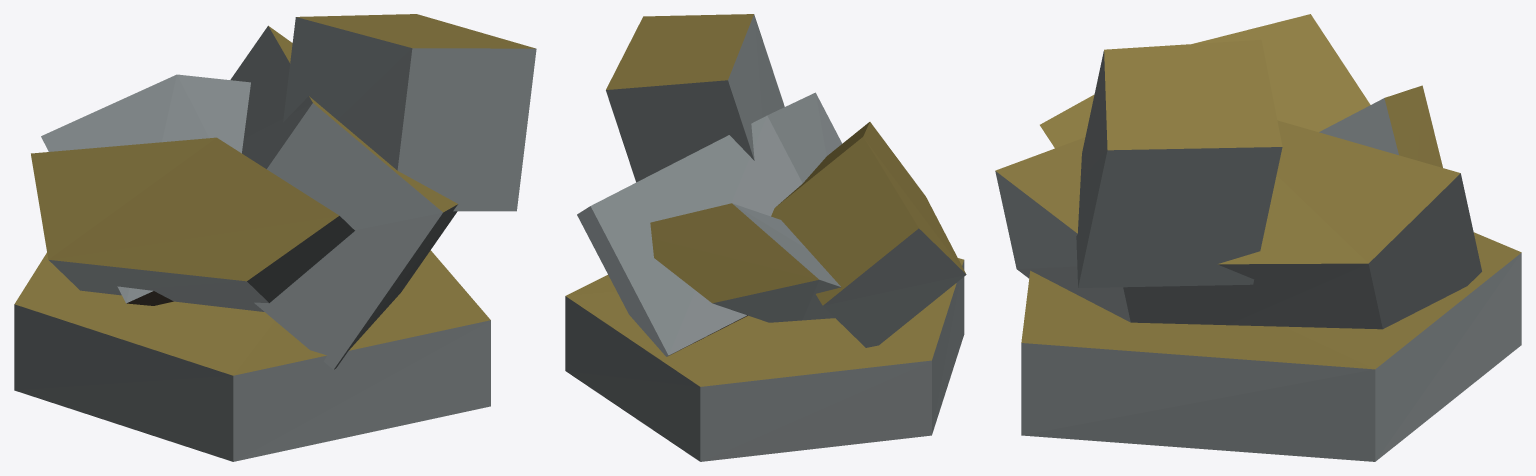
Rendered from rock.shard__stacked__summer.glb.
3 views of the same model, side by side, from view 1: azimuth 30°, elevation 25°; view 2: azimuth 150°, elevation 25°; view 3: azimuth 270°, elevation 25° (orthographic). The views are drawn at different scales.
Visible parts, largest first — view 1: rock.shard; view 2: rock.shard; view 3: rock.shard.
Part boxes in pixels (x1,y1,x2,y2): rock.shard: [14, 14, 536, 461]; rock.shard: [565, 14, 966, 461]; rock.shard: [995, 14, 1521, 461].
Bounding box in the file's own units: 1.78 × 1.35 × 1.76.
